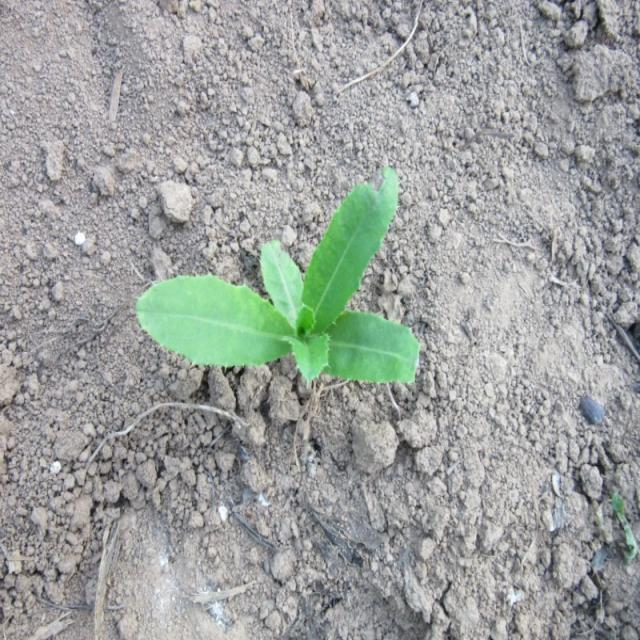cs: (135, 162, 423, 405)
